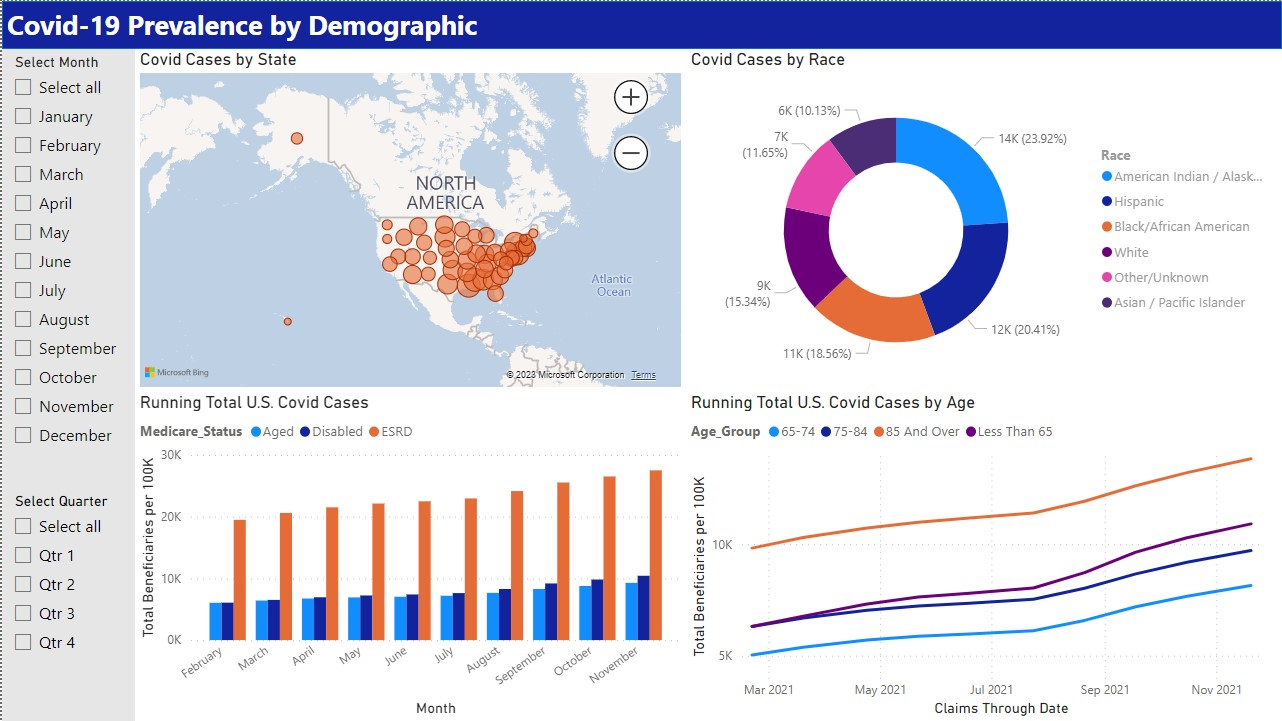

The page's visual inventory and layout, read from the dashboard file:
{"tool":"powerbi","page":{"name":"Page 1","canvas":[1280,720],"ordinal":0},"visuals":[{"type":"shape","box":[0,48.2,132.7,671.8],"z":0},{"type":"shape","box":[0,0,1279.6,48.2],"z":1000},{"type":"map","title":"Covid Cases by State","fields":{"Category":["Covid_cases_by_state.State"],"Size":["Sum(Covid_cases_by_state.Beneficiary_Count_per_100K)"]},"box":[132.7,48.2,551.2,342.5],"z":2000},{"type":"textbox","box":[0,0,505.3,48.2],"z":3000},{"type":"clusteredColumnChart","title":"Running Total U.S. Covid Cases","fields":{"Category":["Covid_by_MC_status.Claims_Thru_Dt.Variation.Date Hierarchy.Month"],"Y":["Sum(Covid_by_MC_status.Beneficiary_Count_per_100K)"],"Series":["Covid_by_MC_status.Medicare_Status"]},"box":[132.7,390.8,551.2,329.2],"z":4000},{"type":"lineChart","title":"Running Total U.S. Covid Cases by Age","fields":{"Category":["Covid_by_age.Claims_Thru_Dt"],"Y":["Sum(Covid_by_age.Beneficiary_Count_per_100K)"],"Series":["Covid_by_age.Age_Group"]},"box":[683.8,390.8,595.8,329.2],"z":5000},{"type":"donutChart","title":"Covid Cases by Race","fields":{"Category":["Covid_by_race.Race"],"Y":["Max(Covid_by_race.Beneficiary_Count_per_100K)"]},"box":[683.8,48.2,595.8,342.5],"z":6000},{"type":"slicer","fields":{"Values":["Covid_by_MC_status.Claims_Thru_Dt.Variation.Date Hierarchy.Month"]},"box":[0,48.2,132.7,410.1],"z":7000},{"type":"slicer","fields":{"Values":["Covid_by_MC_status.Claims_Thru_Dt.Variation.Date Hierarchy.Quarter"]},"box":[0,487.2,132.7,199],"z":8000}]}

Visuals, with their boxes in screenshot pixels (x1, y1, x2, y2), scaled from the page's 1280x720 canvas onto the 1282x721 screenshot:
shape: left=0, top=48, right=133, bottom=720
shape: left=0, top=0, right=1281, bottom=48
"Covid Cases by State" map: left=133, top=48, right=685, bottom=391
textbox: left=0, top=0, right=506, bottom=48
"Running Total U.S. Covid Cases" clusteredColumnChart: left=133, top=391, right=685, bottom=720
"Running Total U.S. Covid Cases by Age" lineChart: left=685, top=391, right=1281, bottom=720
"Covid Cases by Race" donutChart: left=685, top=48, right=1281, bottom=391
slicer - Covid_by_MC_status.Claims_Thru_Dt.Variation.Date Hierarchy.Month: left=0, top=48, right=133, bottom=459
slicer - Covid_by_MC_status.Claims_Thru_Dt.Variation.Date Hierarchy.Quarter: left=0, top=488, right=133, bottom=687
